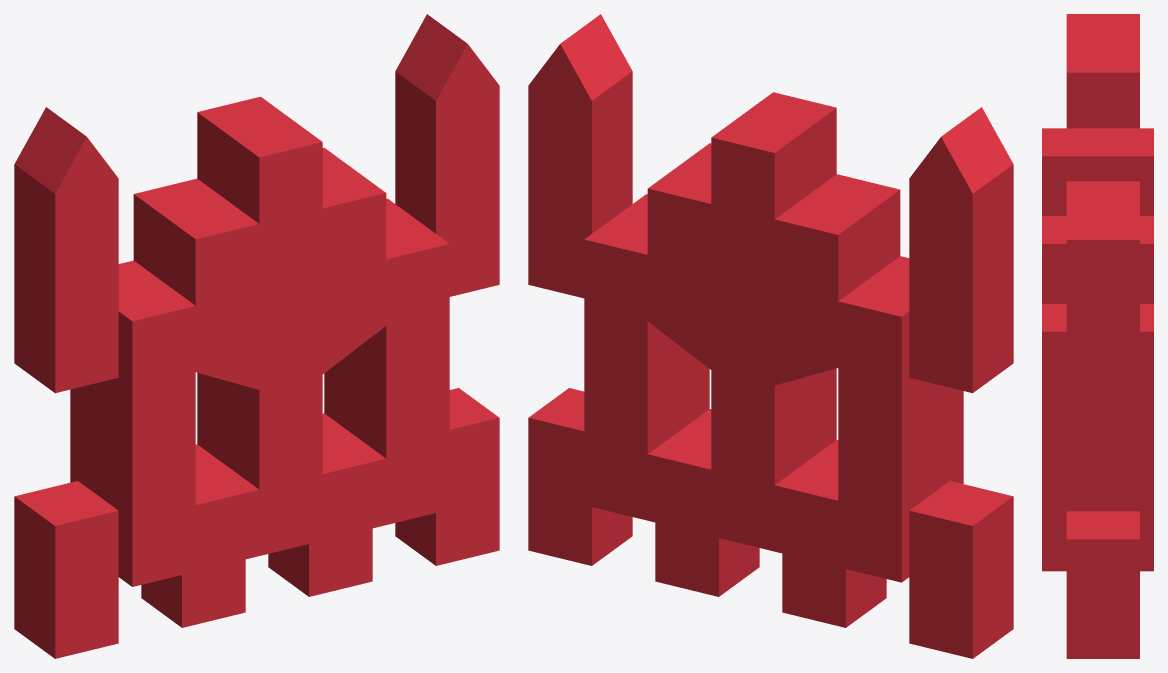
The model's file is MONSTER 3.glb.
The picture shows the model from 3 angles, left to right: view 1: azimuth 30°, elevation 25°; view 2: azimuth 150°, elevation 25°; view 3: azimuth 270°, elevation 25°; orthographic projection. The views are drawn at different scales.
Parts seen in each view (by area): view 1: ENEMY 3.003; view 2: ENEMY 3.003; view 3: ENEMY 3.003.
Boxes of the visible parts, x1=… form: ENEMY 3.003: x1=14, y1=14, x2=499, y2=658; ENEMY 3.003: x1=528, y1=14, x2=1013, y2=658; ENEMY 3.003: x1=1042, y1=14, x2=1153, y2=658.
Bounding box in the file's own units: 2 × 2.21 × 0.4835.
